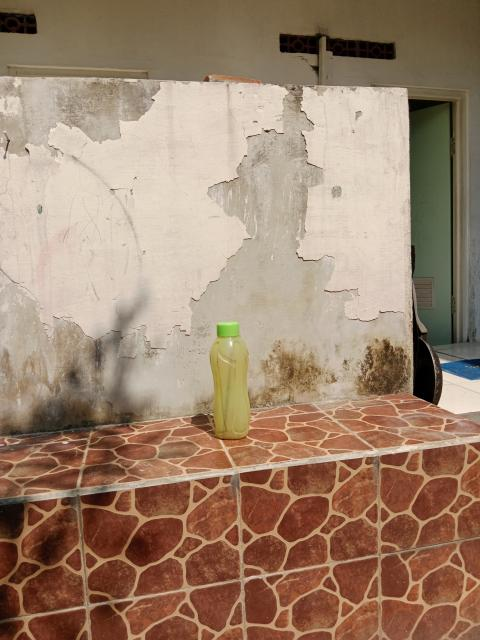botol: (210, 317, 254, 444)
